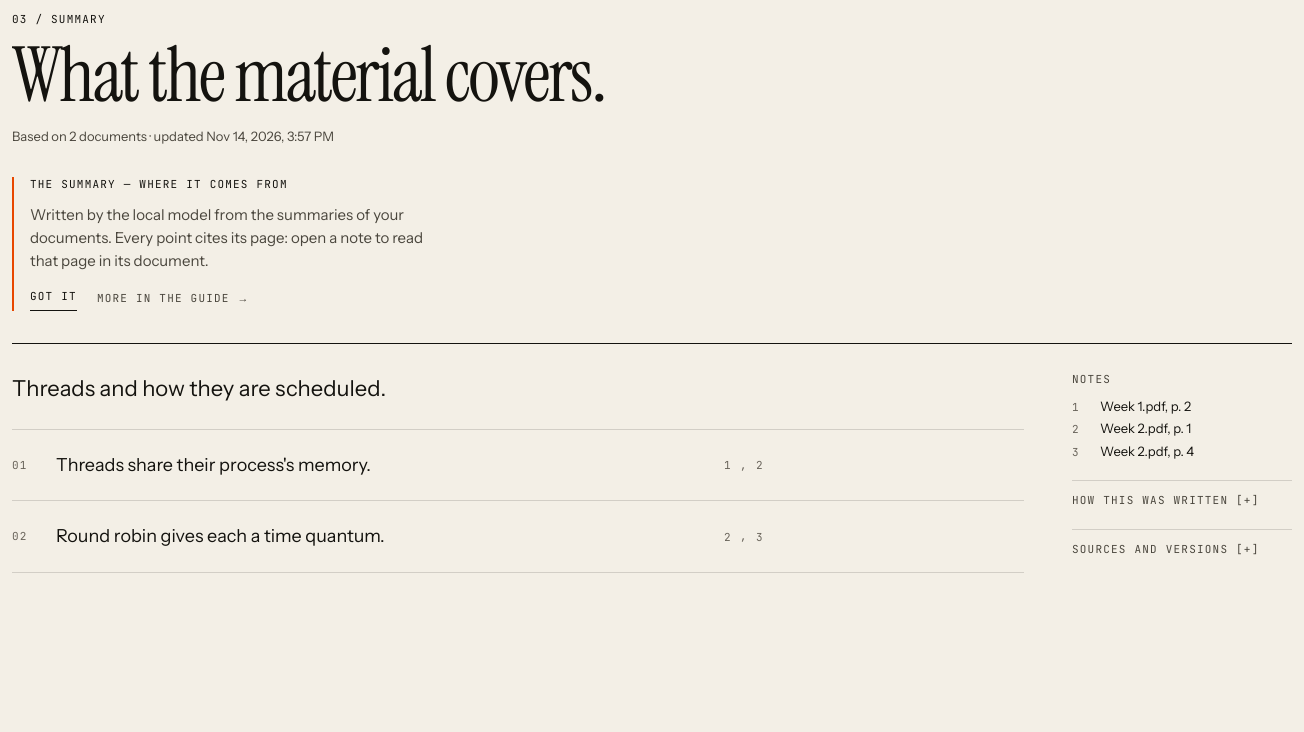
EnvironmentSummary › keeps how it was written and its sources folded until asked for
Expected: the text "Written by a local model" is not shown
Click the button "How this was written [+]" at (1166, 501), box [1072,493,1260,509]
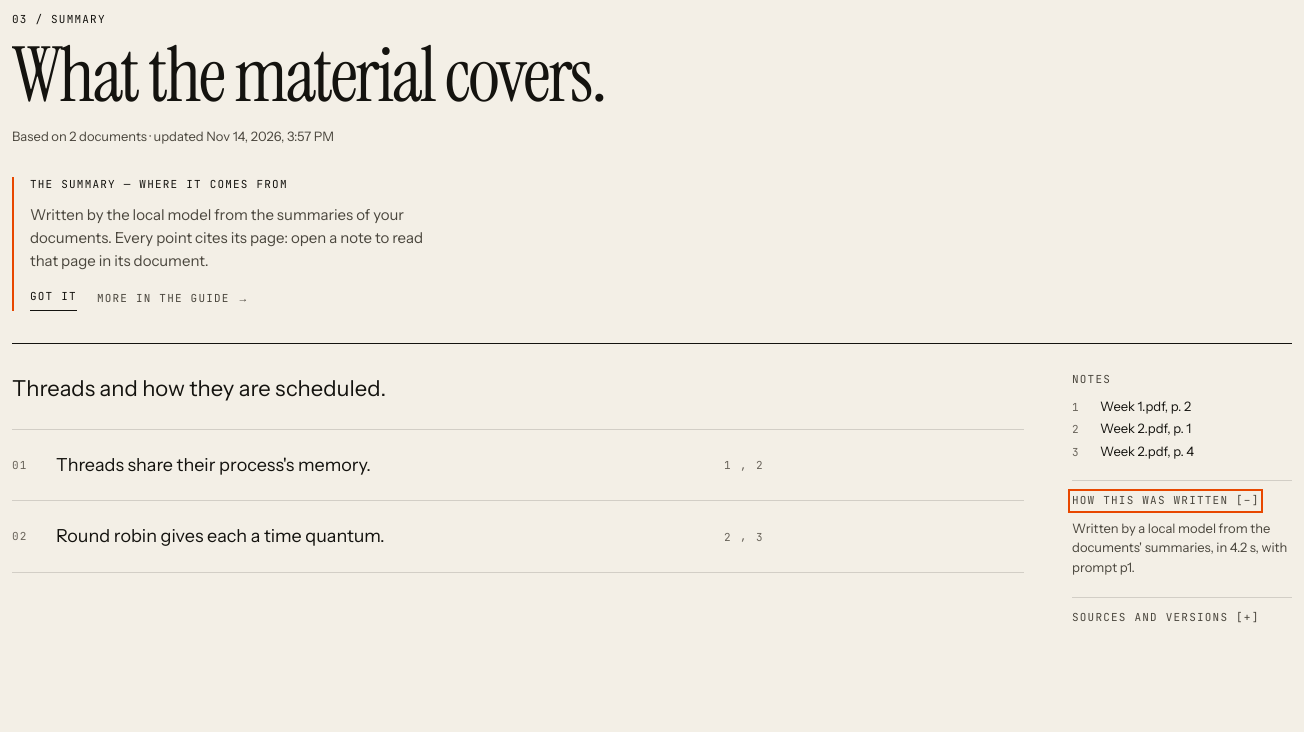
Result: the text "Written by a local model" is shown at [1072,519,1292,577]
Click the button "Sources and versions [+]" at (1166, 618), box [1072,610,1260,626]
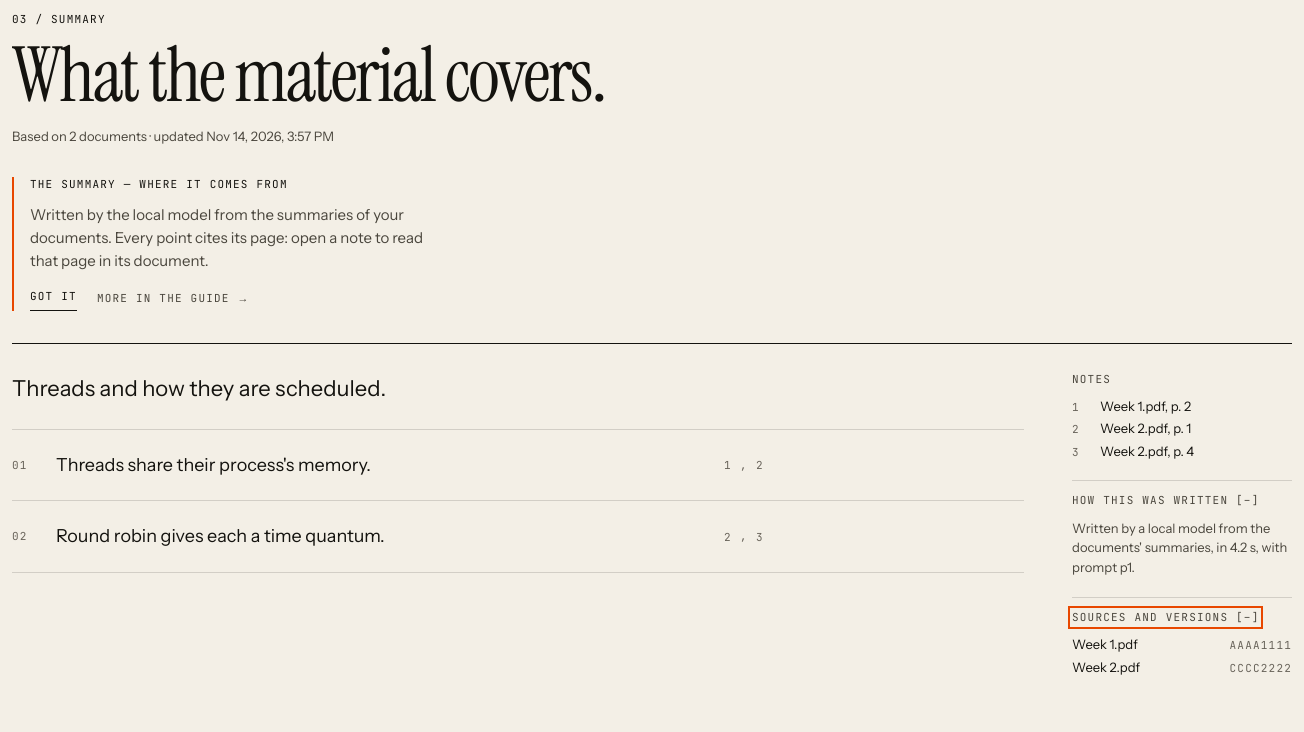
Result: the text "aaaa1111" is shown at [1230,638,1292,654]
